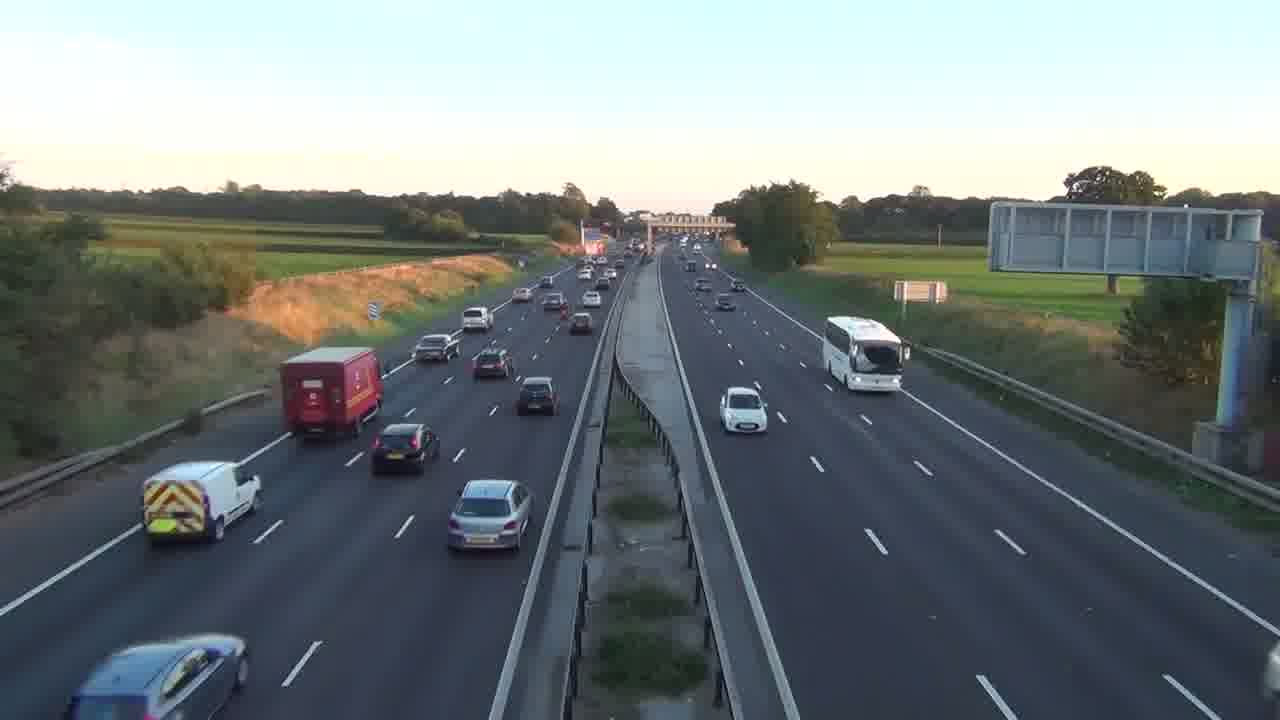bus: (280, 345, 384, 438)
car: (64, 633, 251, 718), (446, 478, 534, 554), (371, 422, 440, 475), (720, 385, 769, 434), (515, 376, 559, 416), (471, 346, 511, 381), (413, 333, 451, 364), (570, 312, 594, 335), (715, 295, 736, 311)
truck: (141, 460, 262, 545)
